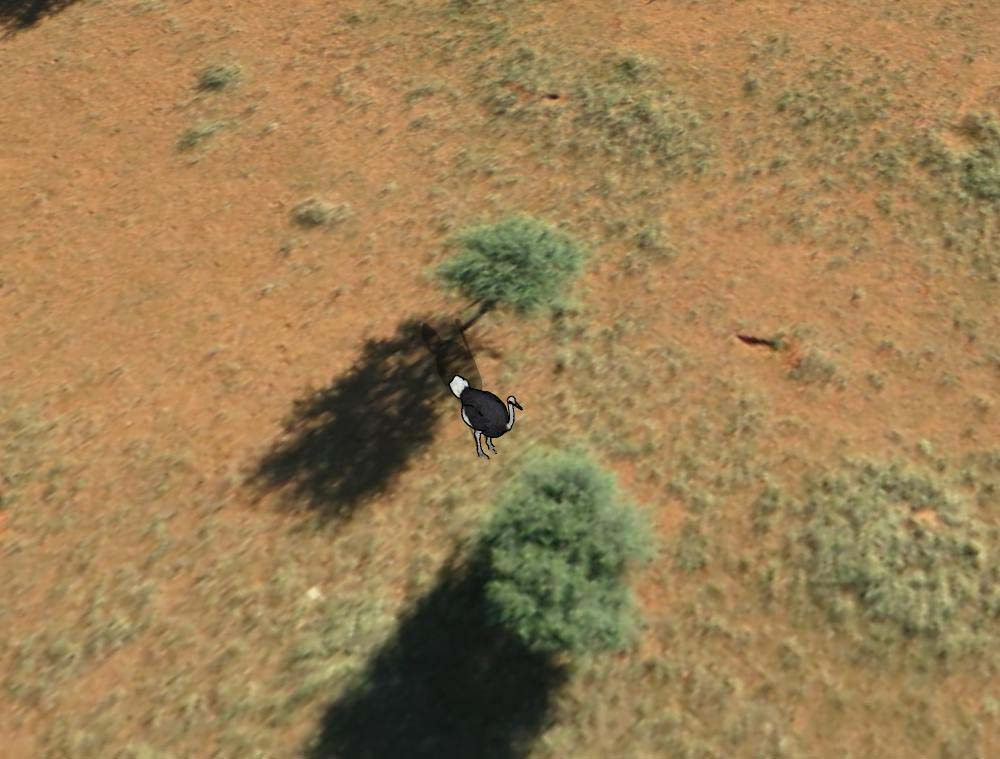ostrich: (450, 372, 525, 459)
